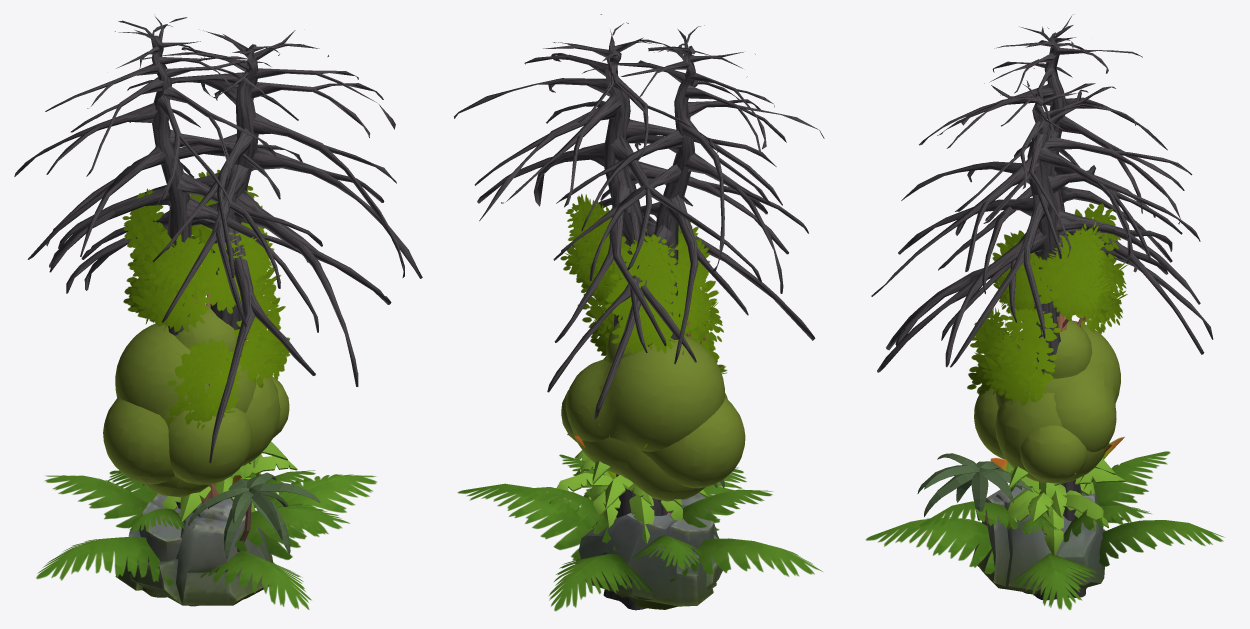
File: nature.glb
The picture shows the model from 3 angles, left to right: view 1: azimuth 30°, elevation 25°; view 2: azimuth 150°, elevation 25°; view 3: azimuth 270°, elevation 25°; orthographic projection. The views are drawn at different scales.
Visible parts, largest first — view 1: DeadTree_4, DeadTree_3, Fern_1, CommonTree_3, Tree_1, Rock_Medium_1, Tree_3, CommonTree_4, PalmTree_2, Tree_4, Rock_Medium_2, Tree_2 (+2 smaller); view 2: DeadTree_4, DeadTree_3, Fern_1, Tree_1, CommonTree_3, Rock_Medium_2, Tree_3, CommonTree_4, Tree_4, Environment_PalmTree_3, Environment_PalmTree_2, Rock_Medium_1; view 3: DeadTree_4, Fern_1, DeadTree_3, CommonTree_4, CommonTree_3, Tree_1, Rock_Medium_1, Tree_3, Tree_4, PalmTree_2, Environment_PalmTree_2, Rock_Medium_2 (+3 smaller).
Part boxes in pixels (left/top/right/bottom): DeadTree_4: left=46, top=30, right=422, bottom=606; DeadTree_3: left=14, top=16, right=322, bottom=335; Fern_1: left=36, top=465, right=377, bottom=609; CommonTree_3: left=122, top=171, right=290, bottom=499; Tree_1: left=115, top=323, right=252, bottom=484; Rock_Medium_1: left=129, top=498, right=272, bottom=605; Tree_3: left=103, top=365, right=289, bottom=484; CommonTree_4: left=127, top=169, right=280, bottom=504; PalmTree_2: left=188, top=472, right=320, bottom=558; Tree_4: left=143, top=372, right=280, bottom=497; Rock_Medium_2: left=115, top=493, right=181, bottom=597; Tree_2: left=168, top=304, right=241, bottom=360; DeadTree_4: left=454, top=14, right=815, bottom=610; DeadTree_3: left=540, top=25, right=824, bottom=512; Fern_1: left=457, top=454, right=822, bottom=611; Tree_1: left=566, top=336, right=727, bottom=451; CommonTree_3: left=576, top=200, right=727, bottom=449; Rock_Medium_2: left=575, top=513, right=716, bottom=606; Tree_3: left=561, top=356, right=745, bottom=488; CommonTree_4: left=560, top=193, right=710, bottom=512; Tree_4: left=571, top=428, right=705, bottom=501; Environment_PalmTree_3: left=574, top=458, right=708, bottom=543; Environment_PalmTree_2: left=549, top=450, right=652, bottom=528; Rock_Medium_1: left=596, top=493, right=722, bottom=609; DeadTree_4: left=871, top=68, right=1213, bottom=600; Fern_1: left=865, top=451, right=1224, bottom=609; DeadTree_3: left=919, top=14, right=1204, bottom=599; CommonTree_4: left=989, top=203, right=1127, bottom=348; CommonTree_3: left=967, top=212, right=1127, bottom=405; Tree_1: left=974, top=320, right=1120, bottom=459; Rock_Medium_1: left=972, top=486, right=1073, bottom=594; Tree_3: left=995, top=374, right=1087, bottom=482; Tree_4: left=995, top=392, right=1109, bottom=483; PalmTree_2: left=917, top=453, right=1033, bottom=525; Environment_PalmTree_2: left=998, top=462, right=1108, bottom=555; Rock_Medium_2: left=1058, top=492, right=1104, bottom=588.
Size of the model in its own units: 9.05 by 13.27 by 8.49.
14 materials, 9 textured.
